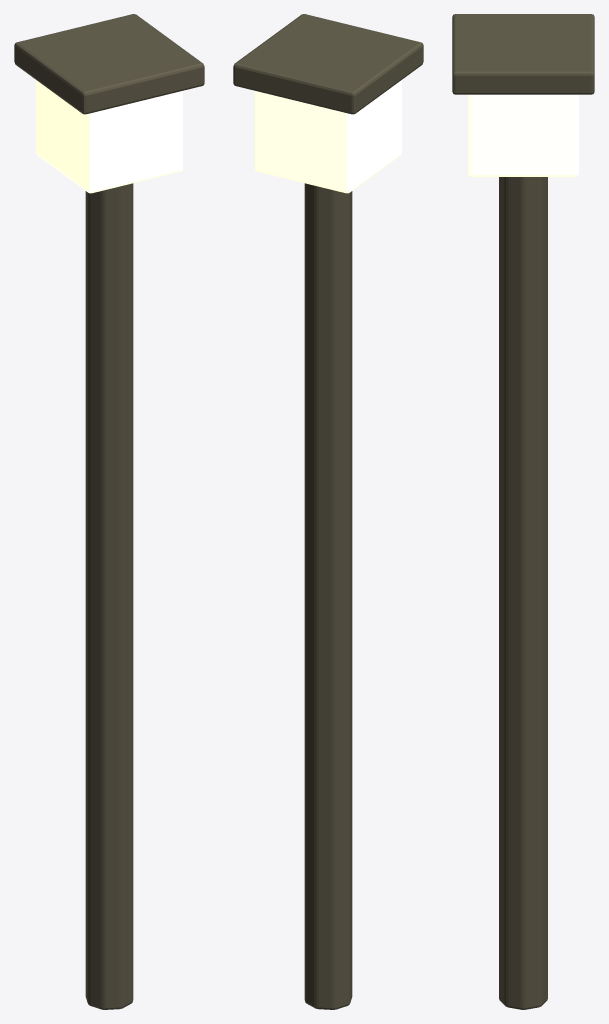
The model's file is SM_Warmerdamm_Lamp.fbx.
The picture shows the model from 3 angles, left to right: view 1: azimuth 30°, elevation 25°; view 2: azimuth 150°, elevation 25°; view 3: azimuth 270°, elevation 25°; orthographic projection.
Parts seen in each view (by area): view 1: SM_Warmerdamm_Lamp; view 2: SM_Warmerdamm_Lamp; view 3: SM_Warmerdamm_Lamp.
Part boxes in pixels (x1,y1,x2,y2): SM_Warmerdamm_Lamp: (14,14,204,1009); SM_Warmerdamm_Lamp: (233,14,423,1009); SM_Warmerdamm_Lamp: (452,14,594,1009).
Size of the model in its own units: 0.45 by 3.34 by 0.45.
